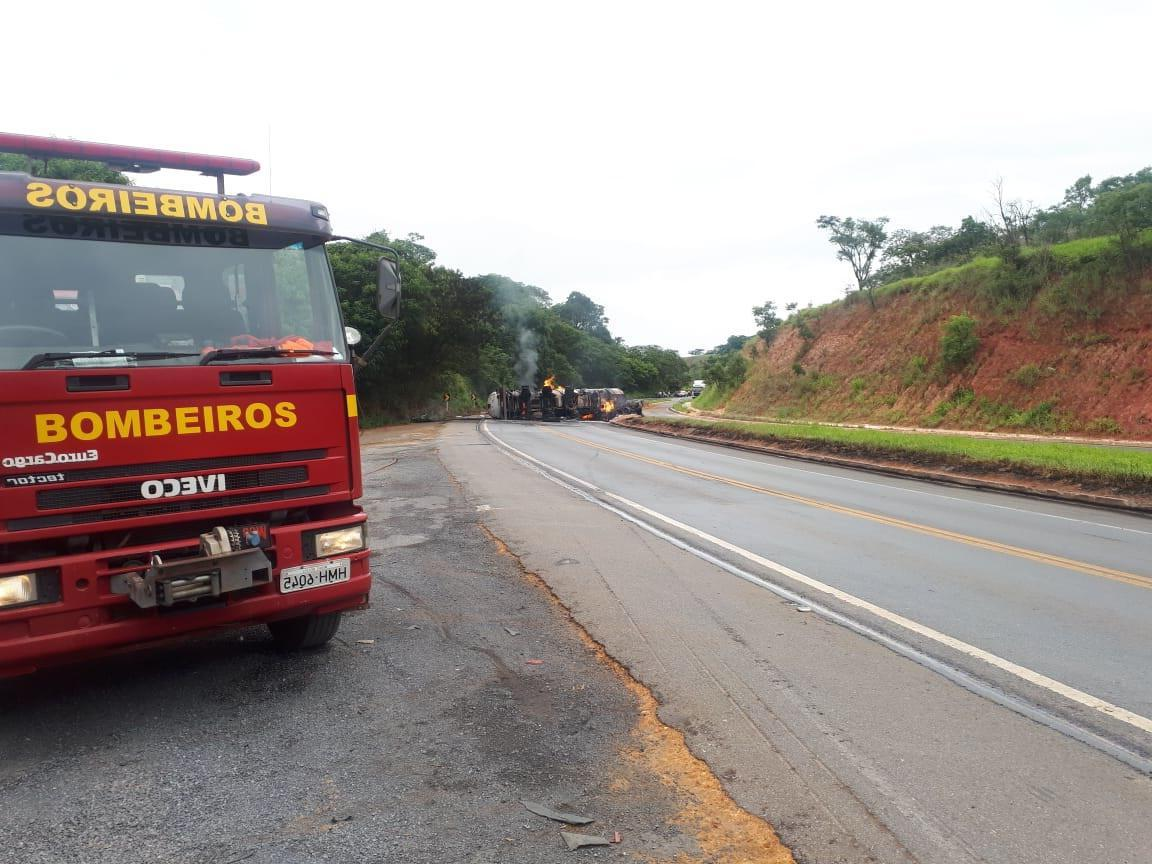Fire: (599, 397, 618, 414), (545, 373, 556, 389)
